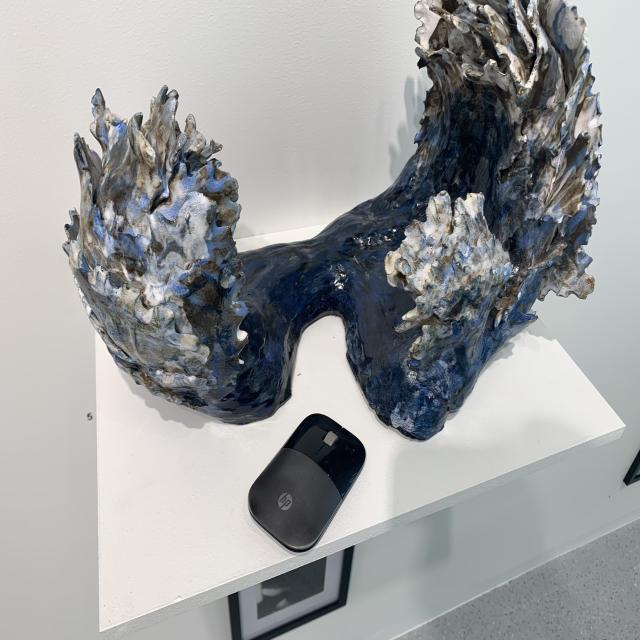Mouse: (245, 409, 368, 558)
